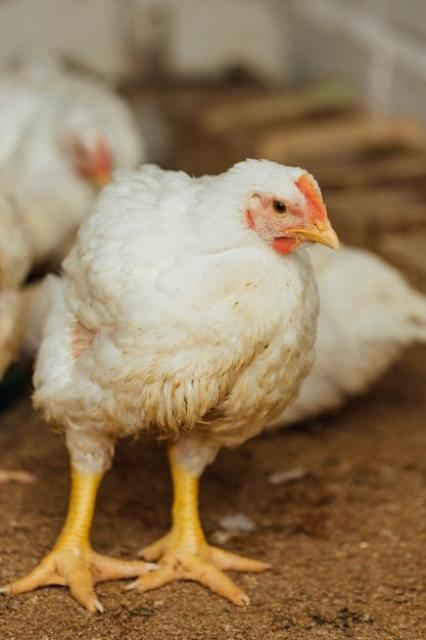Chicken: (0, 159, 340, 615)
